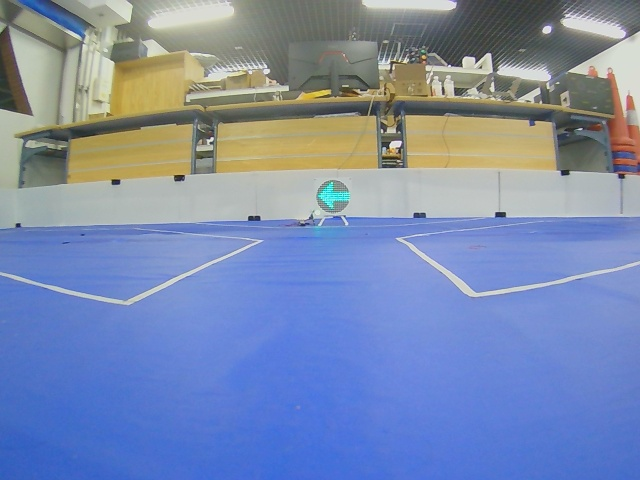left_green: (316, 180, 351, 214)
